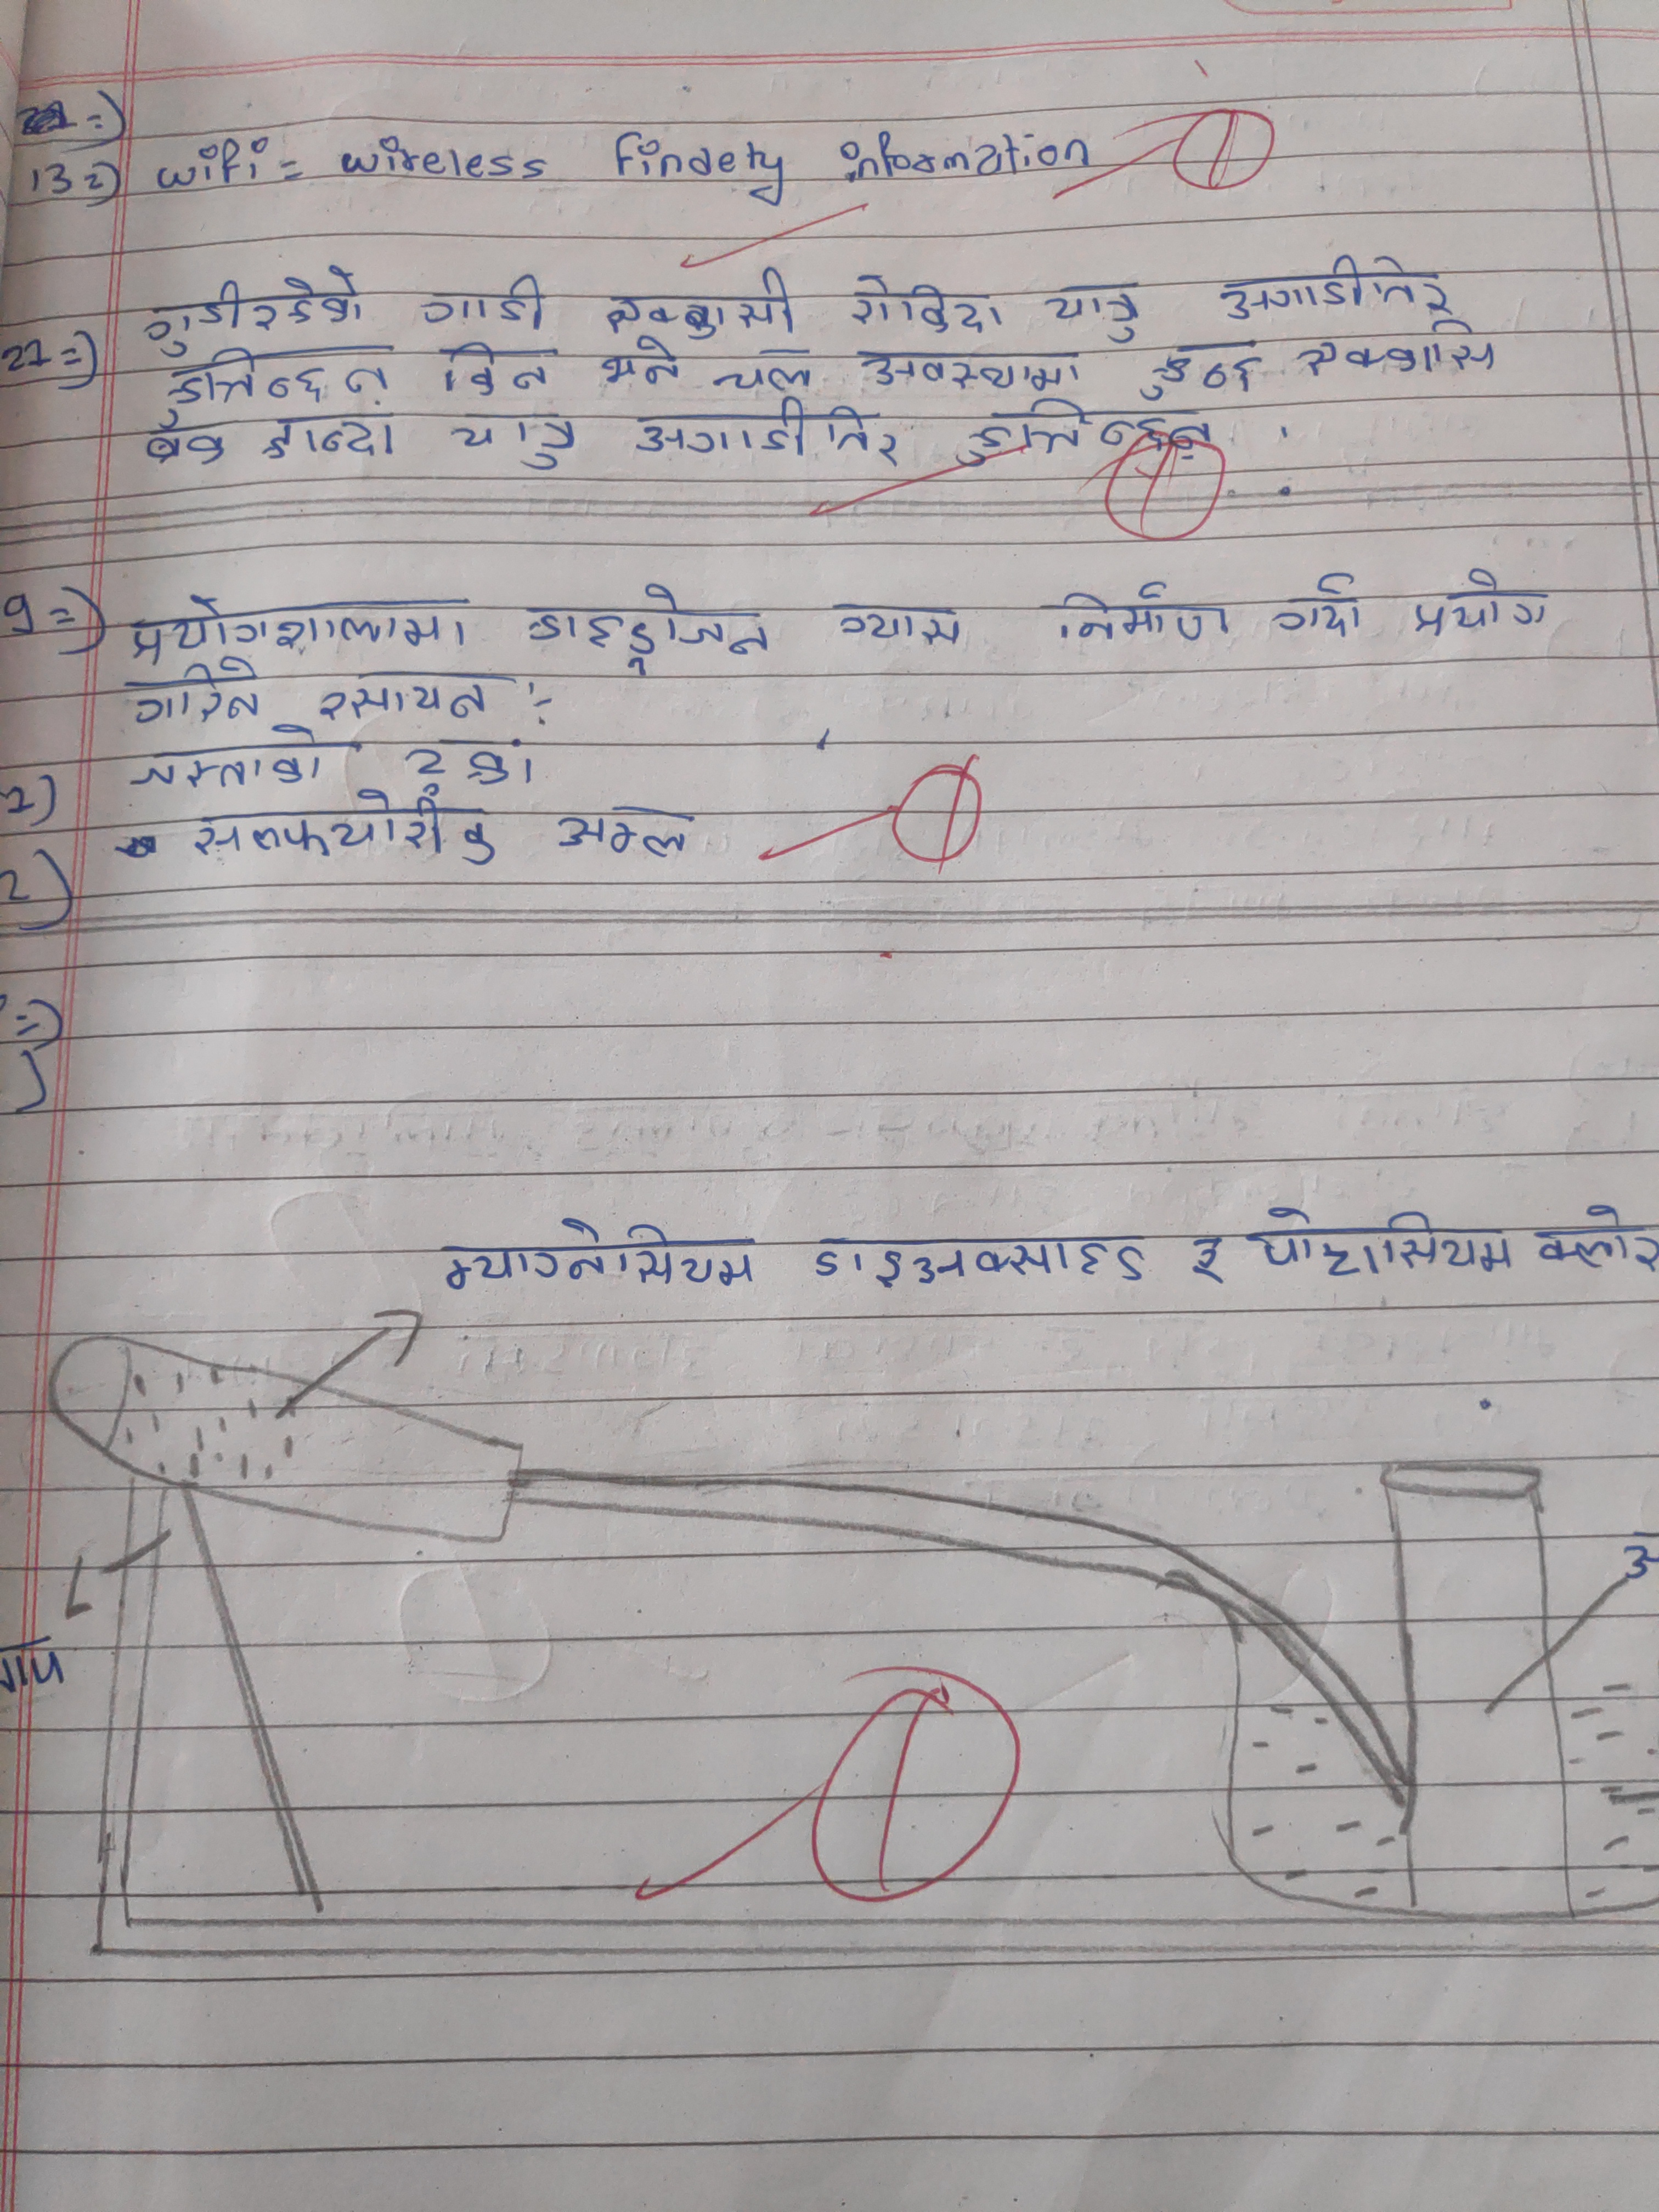text: (192, 782, 498, 869), (439, 1217, 765, 1294), (523, 582, 772, 678), (122, 596, 484, 657), (1239, 1202, 1513, 1278), (812, 1233, 1148, 1292), (141, 263, 369, 350), (955, 401, 1211, 470), (1215, 249, 1462, 315), (599, 263, 803, 340), (134, 726, 333, 796), (162, 352, 397, 409), (1293, 320, 1507, 381), (850, 340, 1091, 394), (1054, 582, 1234, 646), (845, 272, 1006, 340), (624, 401, 807, 460), (310, 671, 495, 726), (122, 660, 267, 728), (1408, 570, 1556, 634), (1532, 1200, 1659, 1270), (448, 408, 579, 474), (549, 801, 697, 859), (420, 273, 547, 336), (828, 594, 964, 650), (1138, 347, 1265, 404), (1042, 280, 1150, 347), (261, 416, 406, 465), (437, 340, 556, 395), (408, 733, 533, 786), (823, 402, 910, 475), (1274, 570, 1364, 637), (716, 345, 819, 394), (598, 336, 692, 387), (146, 411, 225, 470), (1183, 1233, 1232, 1284)
